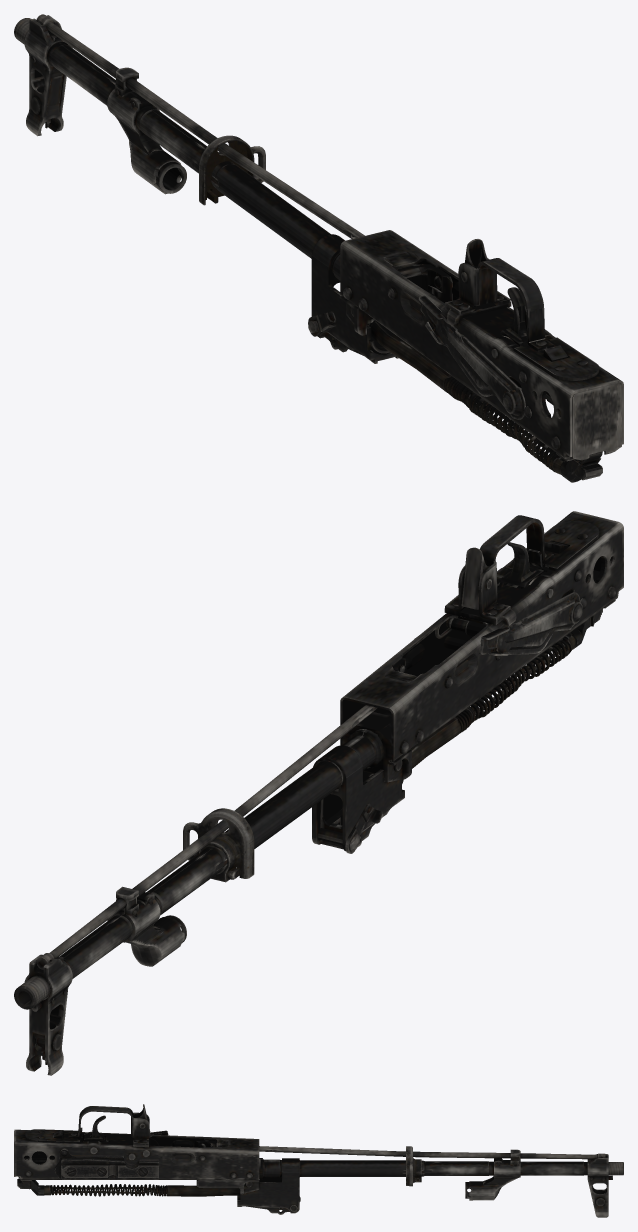
3 renders of one model, top to bottom at view 1: azimuth 30°, elevation 25°; view 2: azimuth 150°, elevation 25°; view 3: azimuth 270°, elevation 25°, orthographic. The views are drawn at different scales.
Parts seen in each view (by area): view 1: TW_5abcbc27d8ce8700182eceeb_PZ_Import; view 2: TW_5abcbc27d8ce8700182eceeb_PZ_Import; view 3: TW_5abcbc27d8ce8700182eceeb_PZ_Import.
Boxes of the visible parts, box(x1,y1,x2,y2) form: TW_5abcbc27d8ce8700182eceeb_PZ_Import: box(14, 14, 623, 482); TW_5abcbc27d8ce8700182eceeb_PZ_Import: box(14, 511, 623, 1075); TW_5abcbc27d8ce8700182eceeb_PZ_Import: box(14, 1104, 623, 1217).
Size of the model in its own units: 0.0314 by 0.3687 by 0.0736.
1 material, 1 textured.
